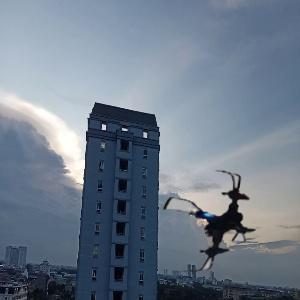drone: (154, 167, 265, 278)
